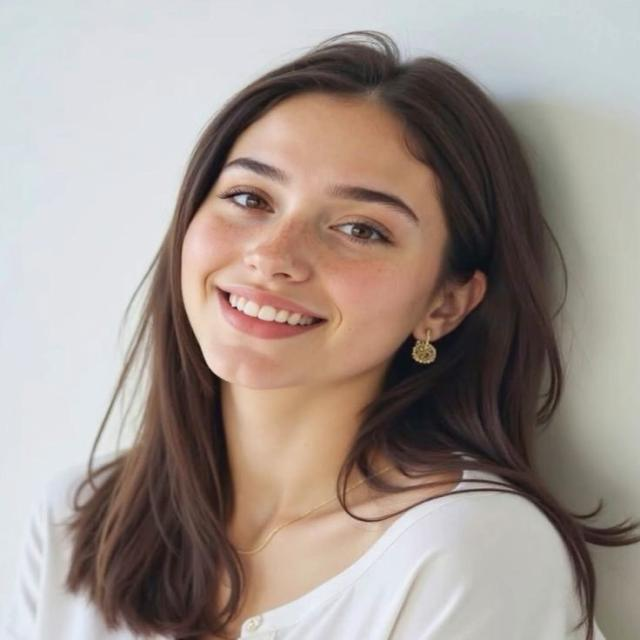sem_oculos: (185, 153, 468, 264)
